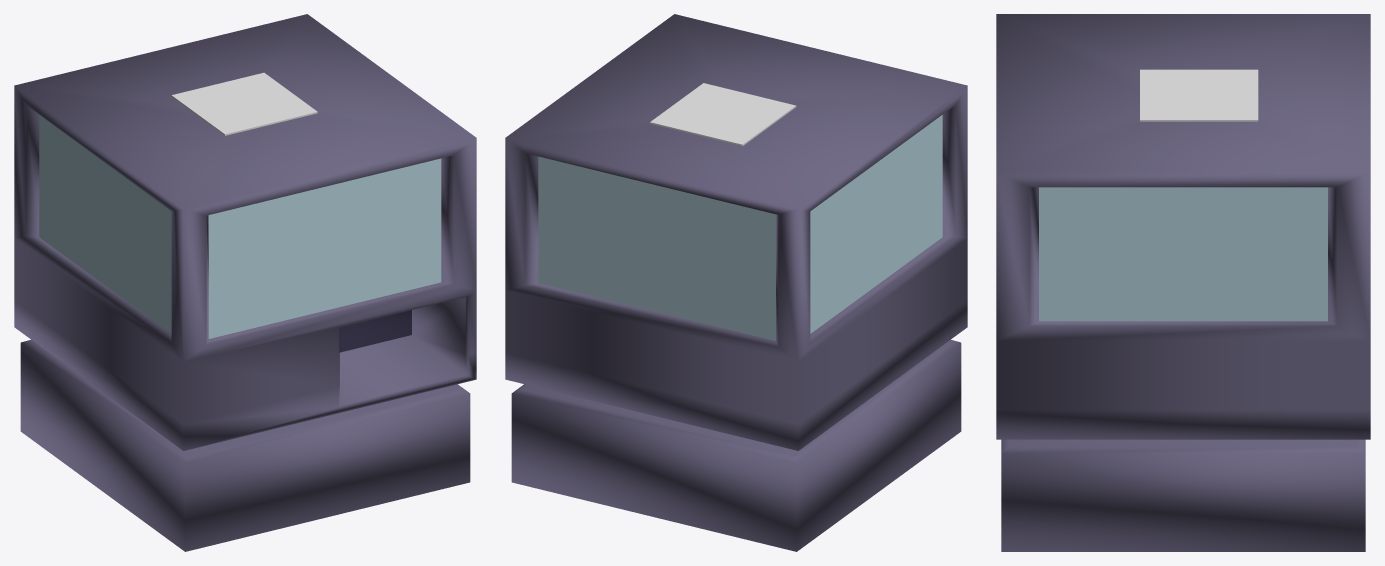
The model's file is crane.fbx.
The picture shows the model from 3 angles, left to right: view 1: azimuth 30°, elevation 25°; view 2: azimuth 150°, elevation 25°; view 3: azimuth 270°, elevation 25°; orthographic projection. The views are drawn at different scales.
Parts seen in each view (by area): view 1: Cube, Cube.001, Plane; view 2: Cube, Cube.001, Plane; view 3: Cube, Cube.001, Plane.
Boxes of the visible parts, <box> form: Cube: <box>14,14,476,551</box>; Cube.001: <box>39,115,441,338</box>; Plane: <box>171,72,317,135</box>; Cube: <box>505,14,967,551</box>; Cube.001: <box>538,115,942,340</box>; Plane: <box>650,83,796,146</box>; Cube: <box>996,14,1370,551</box>; Cube.001: <box>1039,187,1327,321</box>; Plane: <box>1140,69,1258,121</box>.
Size of the model in its own units: 404 by 457 by 404.
